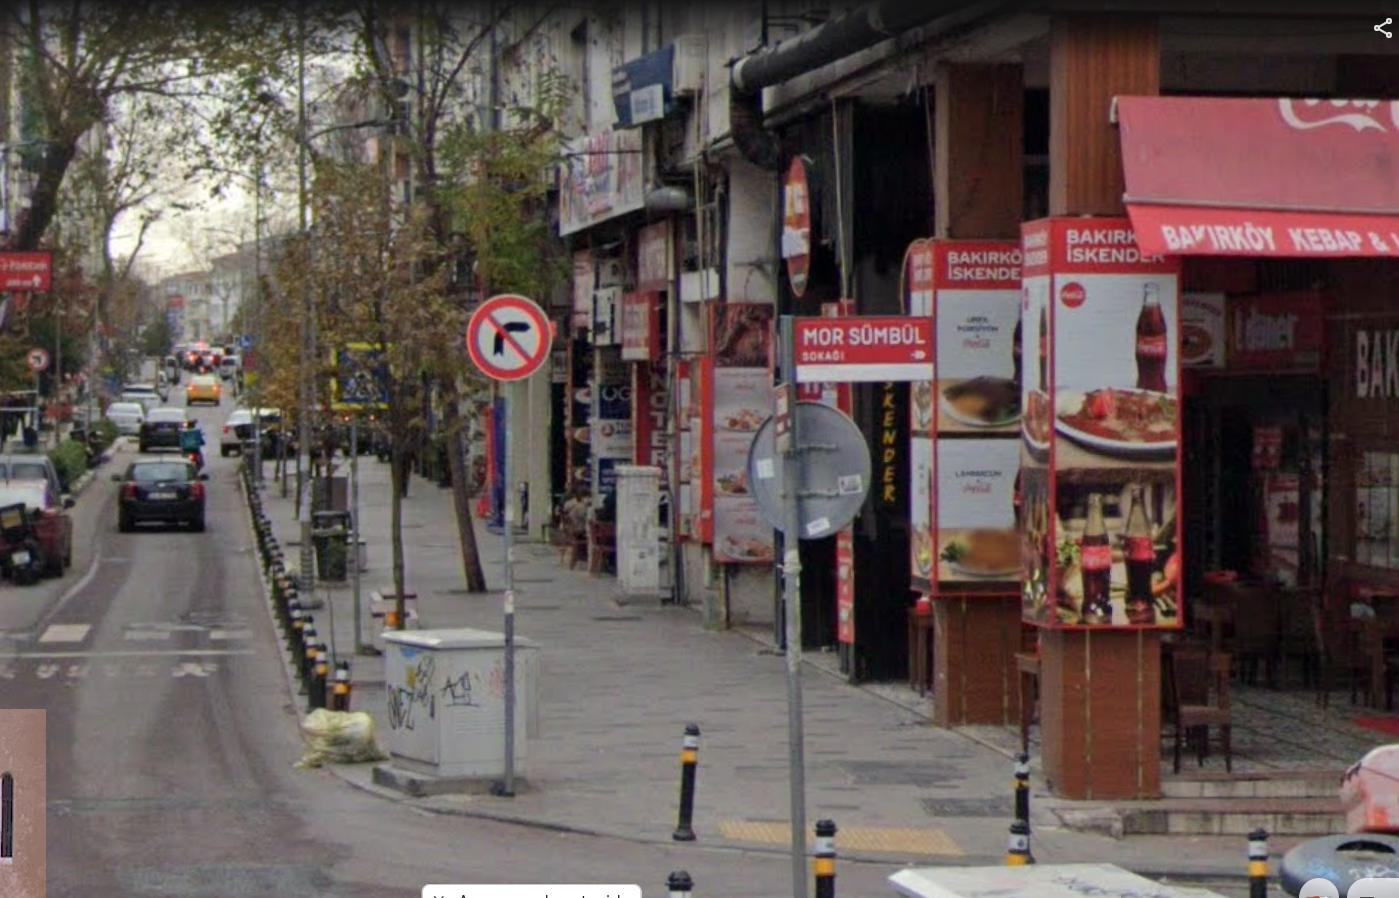rightturnsareforbidden: (471, 284, 549, 378)
